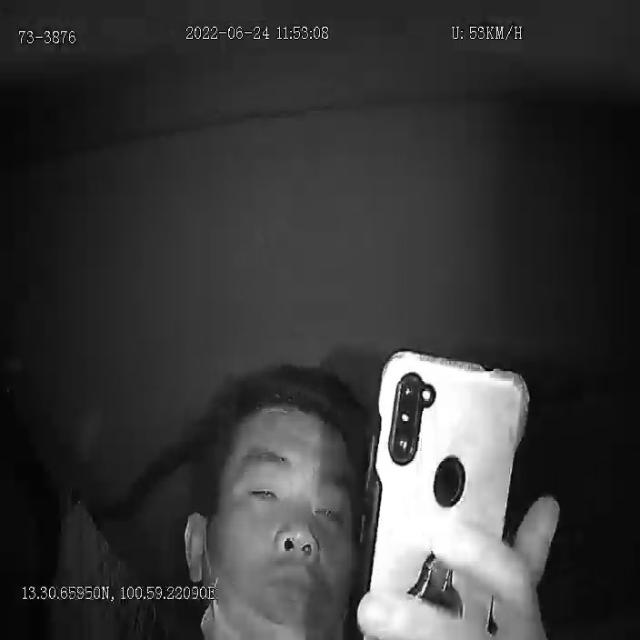phone: (356, 345, 531, 640)
